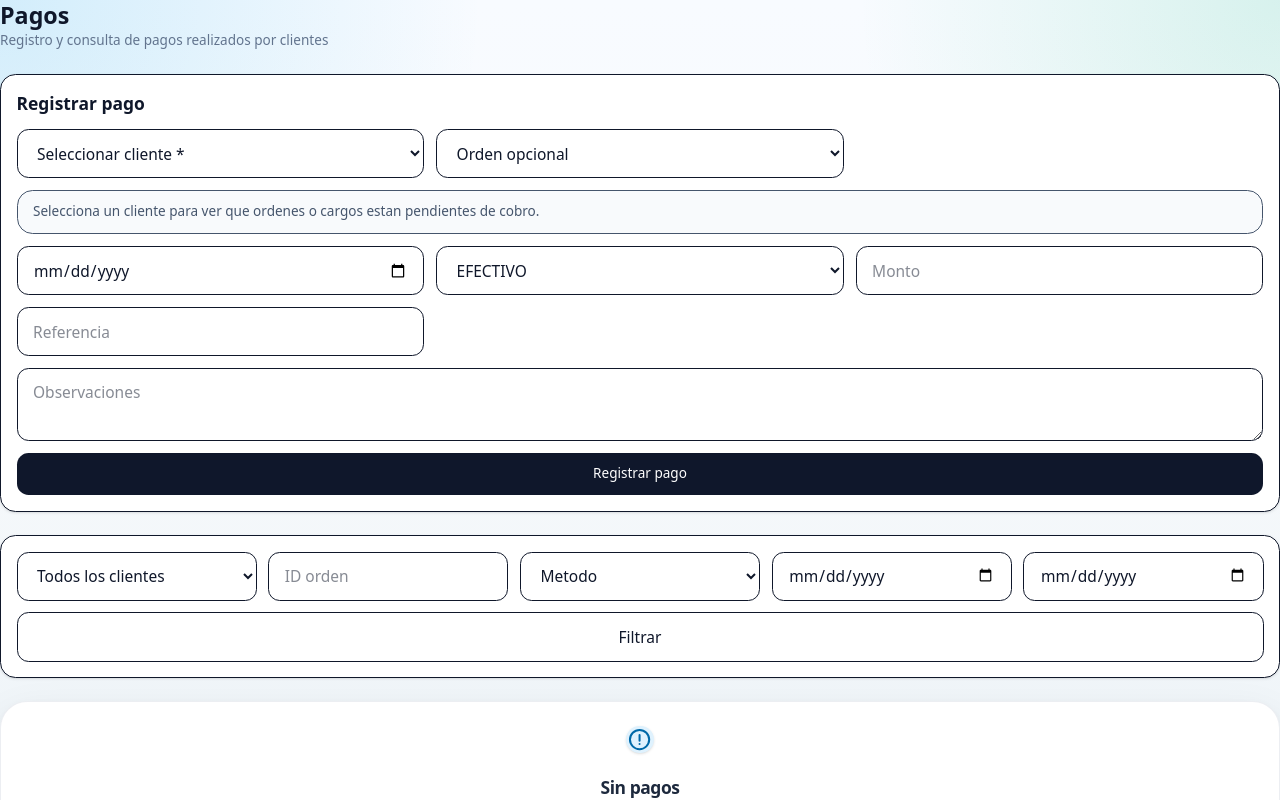
PagosPage › valida que cliente y monto sean obligatorios antes de registrar
Check: the heading "Pagos" is shown, box left=0, top=0, right=69, bottom=31
Click the button "Registrar pago" at (640, 474), box left=16, top=453, right=1264, bottom=495
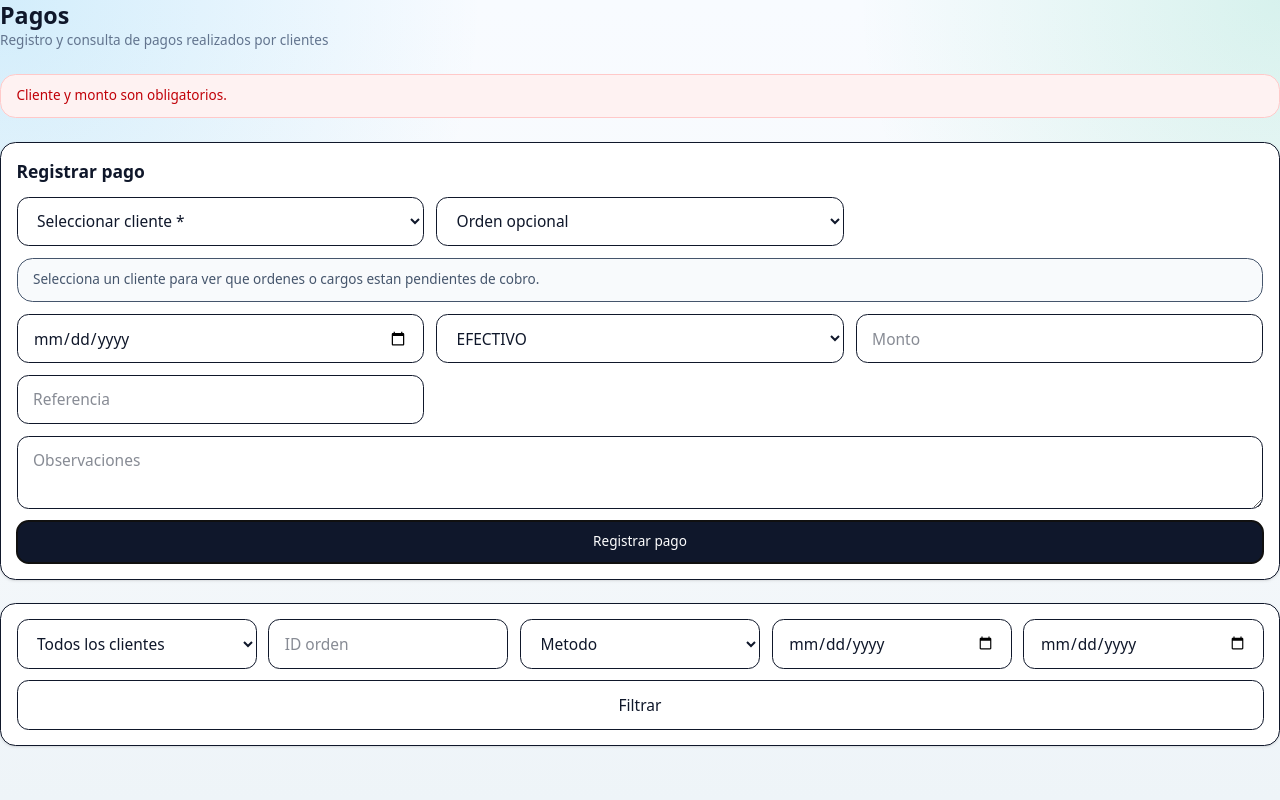
Check: the text "Cliente y monto son obligatorios." is shown, box left=0, top=74, right=1279, bottom=118
